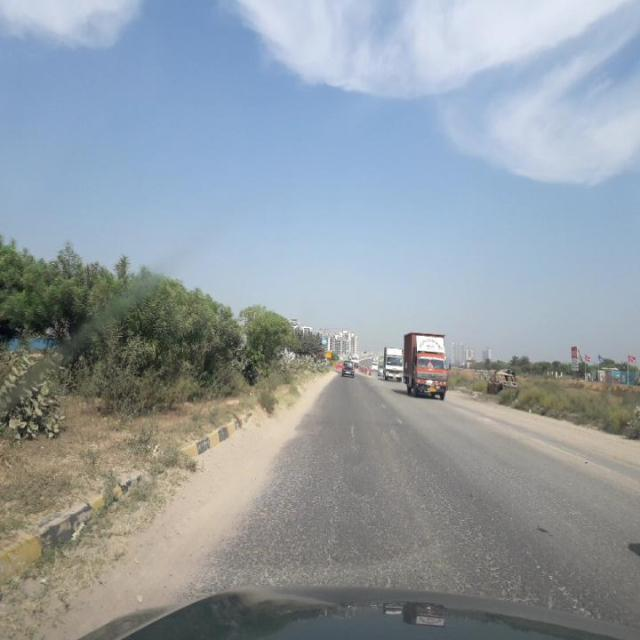Crack: (158, 392, 640, 594)
